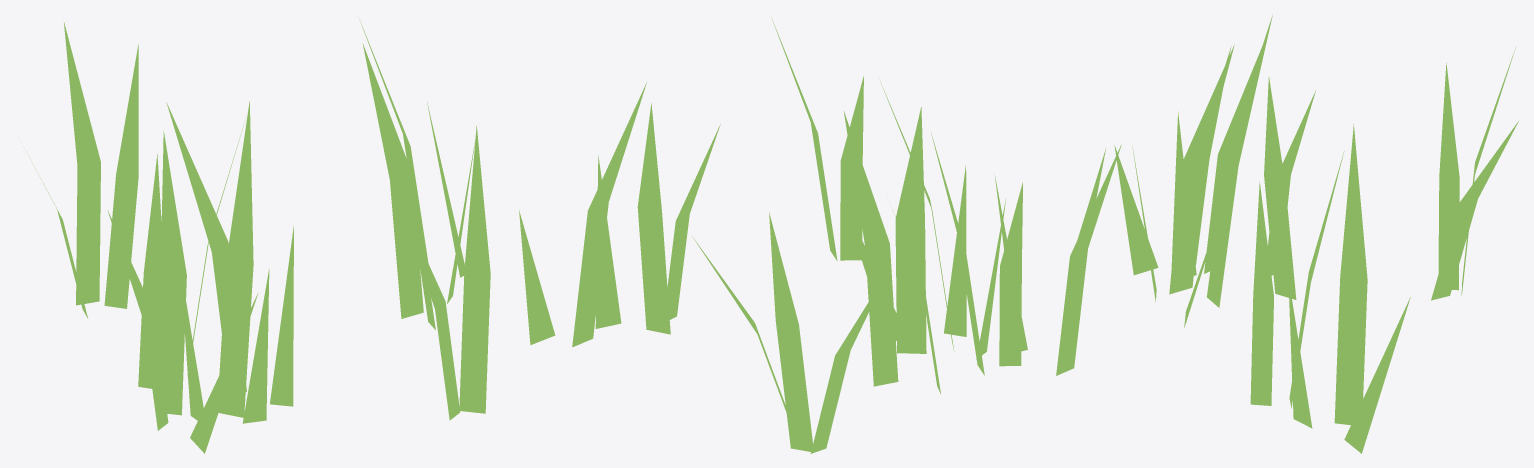
Rendered from Grass_b_TwoS_07.fbx.
3 views of the same model, side by side, from view 1: azimuth 30°, elevation 25°; view 2: azimuth 150°, elevation 25°; view 3: azimuth 270°, elevation 25° (orthographic). The views are drawn at different scales.
Parts seen in each view (by area): view 1: Grass_b_TwoS_07; view 2: Grass_b_TwoS_07; view 3: Grass_b_TwoS_07.
Boxes of the visible parts, x1,y1,x2,y2 form: Grass_b_TwoS_07: (23,19,490,453); Grass_b_TwoS_07: (519,18,1027,453); Grass_b_TwoS_07: (1056,14,1518,453).
Size of the model in its own units: 0.7363 by 0.4799 by 0.7247.
